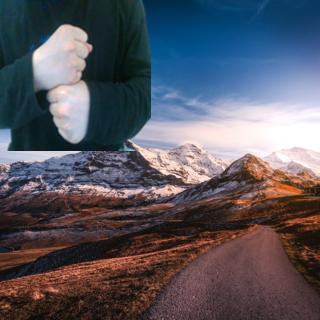CAREFUL: (29, 16, 95, 147)
